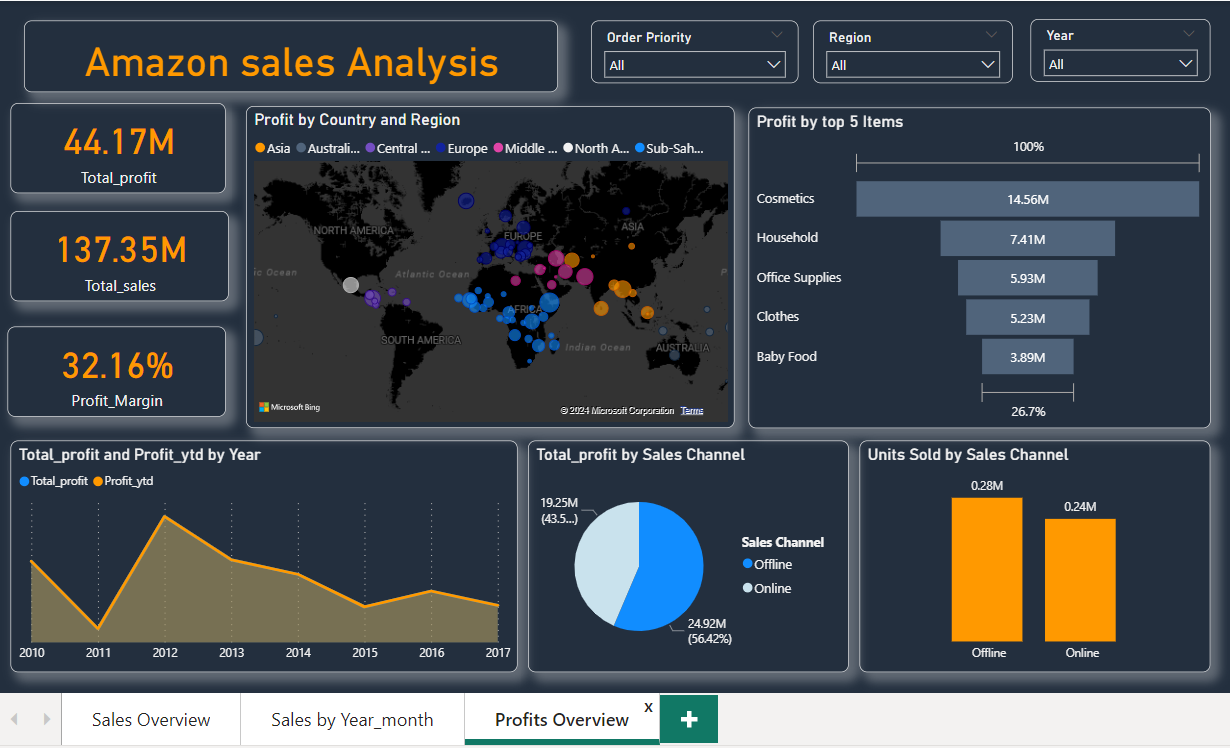

Layout of this report page (visuals, bound fields, positions):
{"tool":"powerbi","page":{"name":"Profits Overview","canvas":[1280,720],"ordinal":2},"visuals":[{"type":"card","fields":{"Values":["Key Measures.Total_profit"]},"box":[11.1,106.5,224.1,93.8],"z":0},{"type":"card","fields":{"Values":["Key Measures.Total_sales"]},"box":[11.1,219.3,227.3,93.8],"z":1000},{"type":"card","fields":{"Values":["Key Measures.Profit_Margin"]},"box":[7.9,338.5,227.3,93.8],"z":2000},{"type":"map","title":"Profit by Country and Region","fields":{"Series":["Amazon Sales data.Region"],"Size":["Key Measures.Total_profit"],"Category":["Amazon Sales data.Country"]},"box":[255.9,109.7,508.6,335.4],"z":3000},{"type":"funnel","title":"Profit by top 5 Items","fields":{"Y":["Key Measures.Total_profit"],"Category":["Amazon Sales data.Item Type"]},"box":[778.8,111.3,481.6,333.8],"z":4000},{"type":"slicer","fields":{"Values":["date.Year"]},"box":[1072.8,19.1,187.5,65.2],"z":5000},{"type":"slicer","fields":{"Values":["Amazon Sales data.Region"]},"box":[847.2,20.7,208.2,65.2],"z":6000},{"type":"slicer","fields":{"Values":["Amazon Sales data.Order Priority"]},"box":[615.1,20.7,216.2,65.2],"z":7000},{"type":"card","fields":{"Values":["Key Measures.Title"]},"box":[25.4,20.7,556.3,74.7],"z":8000},{"type":"areaChart","fields":{"Y":["Key Measures.Total_profit","Key Measures.Profit_ytd"],"Category":["date.Year"]},"box":[11.1,457.7,527.7,241.6],"z":9000},{"type":"pieChart","fields":{"Y":["Key Measures.Total_profit"],"Category":["Amazon Sales data.Sales Channel"]},"box":[549.9,457.7,333.8,241.6],"z":10000},{"type":"clusteredColumnChart","title":"Units Sold by Sales Channel","fields":{"Category":["Amazon Sales data.Sales Channel"],"Y":["Sum(Amazon Sales data.Units Sold)"]},"box":[894.8,457.7,365.6,241.6],"z":11000}]}

Visuals, with their boxes on the page's 1280x720 design canvas (x1, y1, x2, y2). These are canvas units, not pixel positions in the 1230x748 screenshot, which may show the page scaled, cropped or inside an application window:
card - Key Measures.Total_profit: [left=11, top=106, right=235, bottom=200]
card - Key Measures.Total_sales: [left=11, top=219, right=238, bottom=313]
card - Key Measures.Profit_Margin: [left=8, top=338, right=235, bottom=432]
"Profit by Country and Region" map: [left=256, top=110, right=764, bottom=445]
"Profit by top 5 Items" funnel: [left=779, top=111, right=1260, bottom=445]
slicer - date.Year: [left=1073, top=19, right=1260, bottom=84]
slicer - Amazon Sales data.Region: [left=847, top=21, right=1055, bottom=86]
slicer - Amazon Sales data.Order Priority: [left=615, top=21, right=831, bottom=86]
card - Key Measures.Title: [left=25, top=21, right=582, bottom=95]
areaChart - Key Measures.Total_profit x Key Measures.Profit_ytd: [left=11, top=458, right=539, bottom=699]
pieChart - Key Measures.Total_profit x Amazon Sales data.Sales Channel: [left=550, top=458, right=884, bottom=699]
"Units Sold by Sales Channel" clusteredColumnChart: [left=895, top=458, right=1260, bottom=699]
